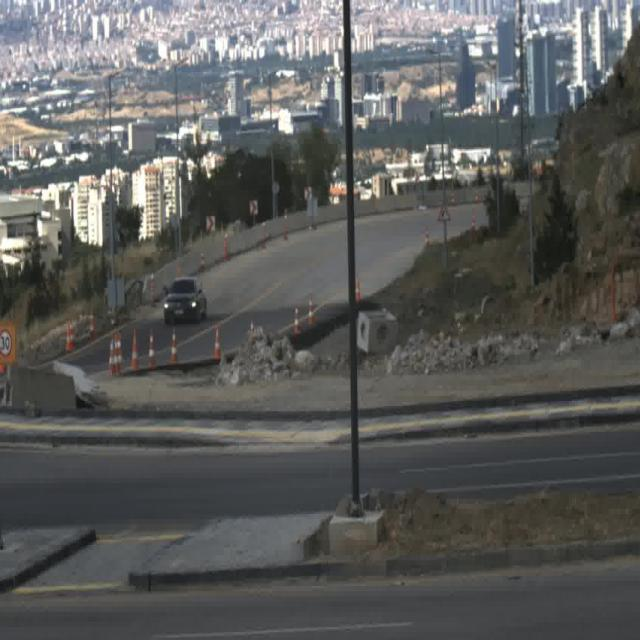Car: (164, 273, 207, 319)
